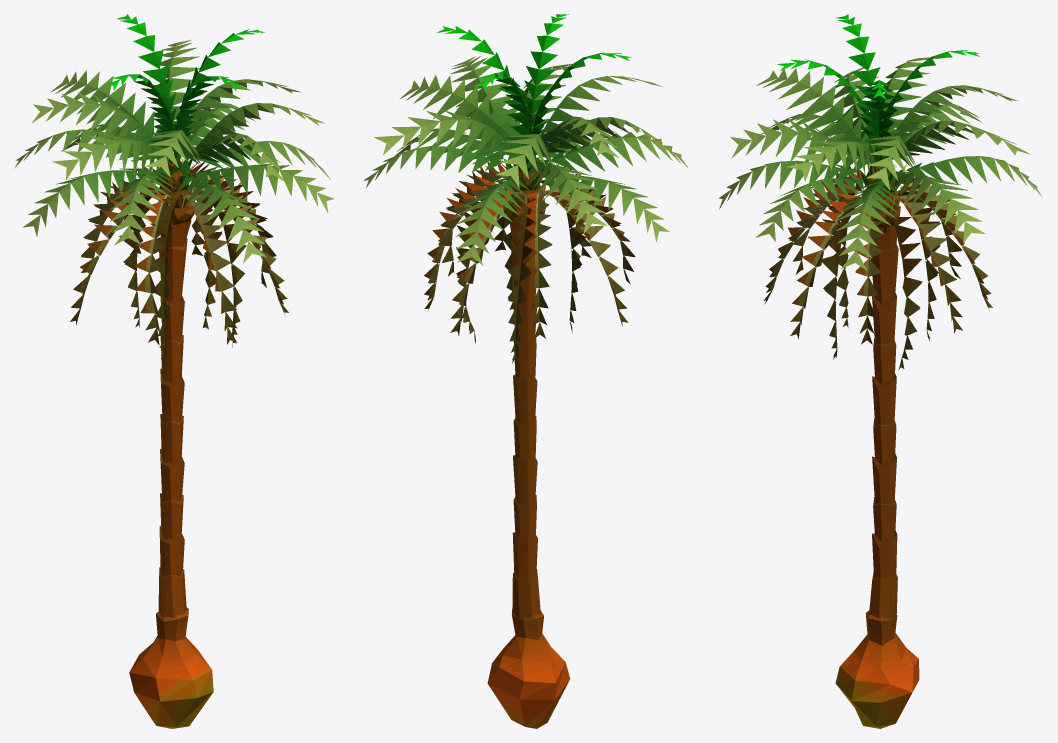
The model's file is ExoticPalmDefalt.glb.
3 renders of one model, left to right at view 1: azimuth 30°, elevation 25°; view 2: azimuth 150°, elevation 25°; view 3: azimuth 270°, elevation 25°, orthographic.
Parts seen in each view (by area): view 1: ExoticPalmDefaltLeaves, ExoticPalmDefaltBasicBark.001, ExoticPalmDefaltLeavesFalen, ExoticPalmDefaltGroundBase, ExoticPalmDefaltYoungLeaves, ExoticPalmDefaltDeathLeaves, ExoticPalmDefaltExtraBark; view 2: ExoticPalmDefaltLeaves, ExoticPalmDefaltLeavesFalen, ExoticPalmDefaltBasicBark.001, ExoticPalmDefaltGroundBase, ExoticPalmDefaltYoungLeaves, ExoticPalmDefaltDeathLeaves, ExoticPalmDefaltExtraBark; view 3: ExoticPalmDefaltLeaves, ExoticPalmDefaltBasicBark.001, ExoticPalmDefaltLeavesFalen, ExoticPalmDefaltGroundBase, ExoticPalmDefaltDeathLeaves, ExoticPalmDefaltYoungLeaves, ExoticPalmDefaltExtraBark.
Boxes of the visible parts, box(x1,y1,x2,y2) form: ExoticPalmDefaltLeaves: box(14, 39, 334, 263); ExoticPalmDefaltBasicBark.001: box(158, 201, 191, 617); ExoticPalmDefaltLeavesFalen: box(70, 156, 288, 345); ExoticPalmDefaltGroundBase: box(129, 608, 213, 728); ExoticPalmDefaltYoungLeaves: box(103, 14, 265, 157); ExoticPalmDefaltDeathLeaves: box(119, 177, 246, 358); ExoticPalmDefaltExtraBark: box(156, 161, 194, 225); ExoticPalmDefaltLeaves: box(364, 56, 688, 265); ExoticPalmDefaltLeavesFalen: box(424, 162, 635, 338); ExoticPalmDefaltBasicBark.001: box(509, 211, 540, 620); ExoticPalmDefaltGroundBase: box(487, 607, 570, 728); ExoticPalmDefaltYoungLeaves: box(437, 14, 631, 148); ExoticPalmDefaltDeathLeaves: box(456, 167, 585, 363); ExoticPalmDefaltExtraBark: box(504, 158, 545, 222); ExoticPalmDefaltLeaves: box(718, 57, 1042, 270); ExoticPalmDefaltBasicBark.001: box(868, 213, 899, 618); ExoticPalmDefaltLeavesFalen: box(763, 164, 992, 344); ExoticPalmDefaltGroundBase: box(835, 610, 919, 728); ExoticPalmDefaltDeathLeaves: box(822, 173, 940, 369); ExoticPalmDefaltYoungLeaves: box(777, 14, 979, 161); ExoticPalmDefaltExtraBark: box(862, 166, 900, 227).
Size of the model in its own units: 4.97 by 11.41 by 4.96.
1 material, 1 textured.
